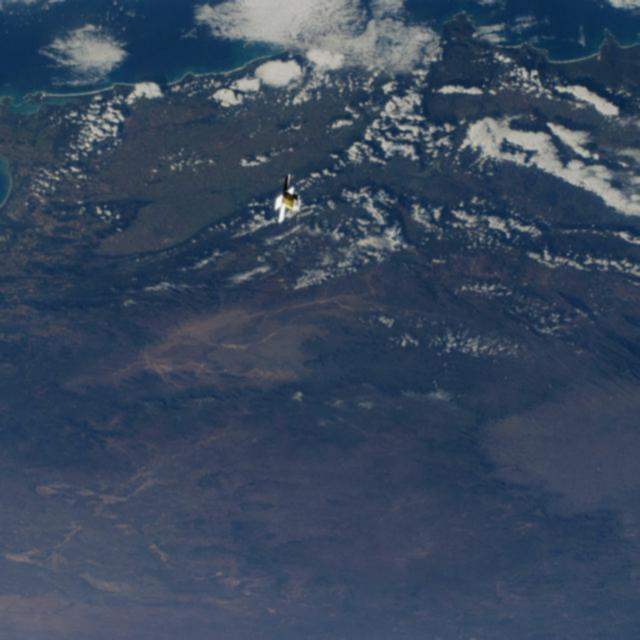satellite: (260, 165, 316, 233)
